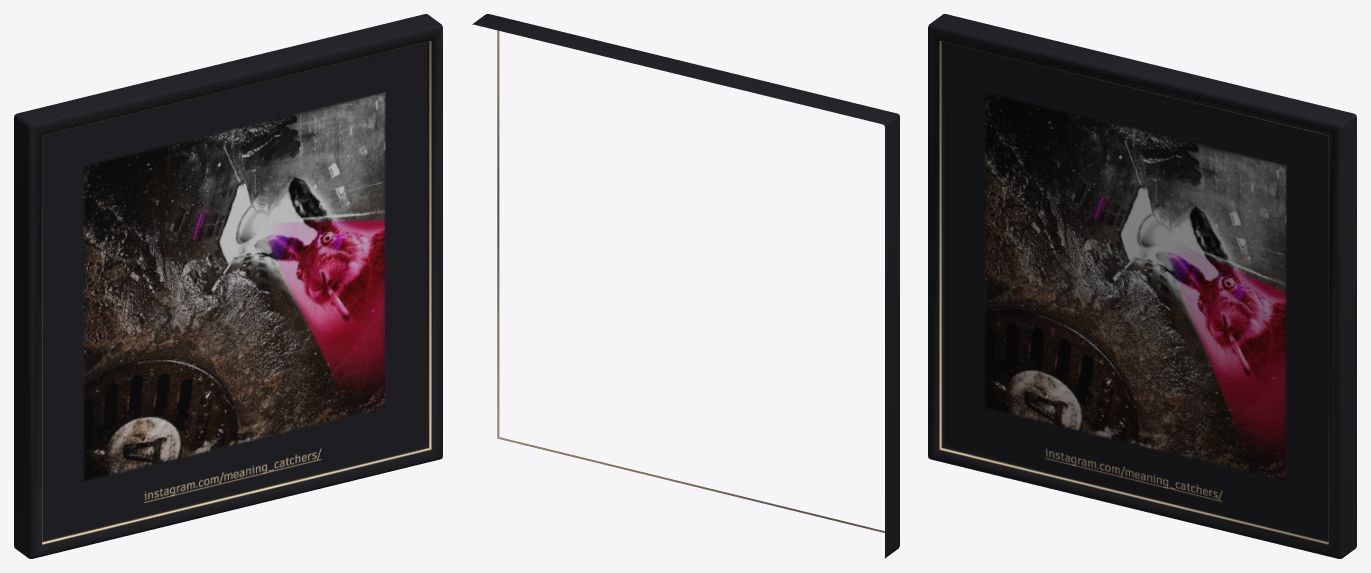
The model's file is sasha.glb.
The picture shows the model from 3 angles, left to right: view 1: azimuth 30°, elevation 25°; view 2: azimuth 150°, elevation 25°; view 3: azimuth 330°, elevation 25°; orthographic projection.
Visible parts, largest first — view 1: kvadrat001; view 2: kvadrat001; view 3: kvadrat001.
Part boxes in pixels (<box>): kvadrat001: <box>14,14,442,558</box>; kvadrat001: <box>472,14,899,558</box>; kvadrat001: <box>928,14,1356,558</box>.
Bounding box in the file's own units: 14.91 × 14.96 × 0.9832.
1 material, 1 textured.
